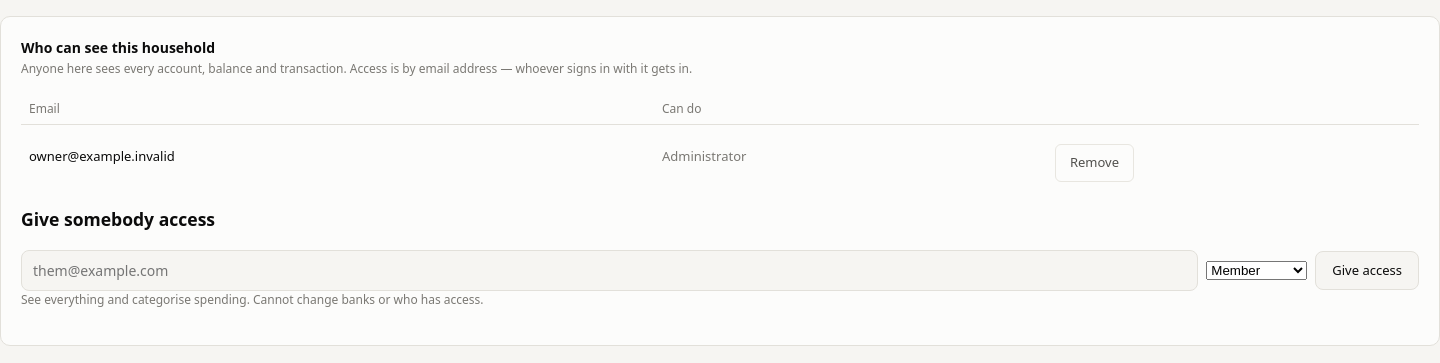
Test: giving somebody access › says what the chosen role can do, before it is used
Expected: the text "owner@example.invalid" is shown, [21,124,654,188]
Select "Administrator" in the dropdown named "What they can do" at (1257, 270), box [1206,261,1307,280]
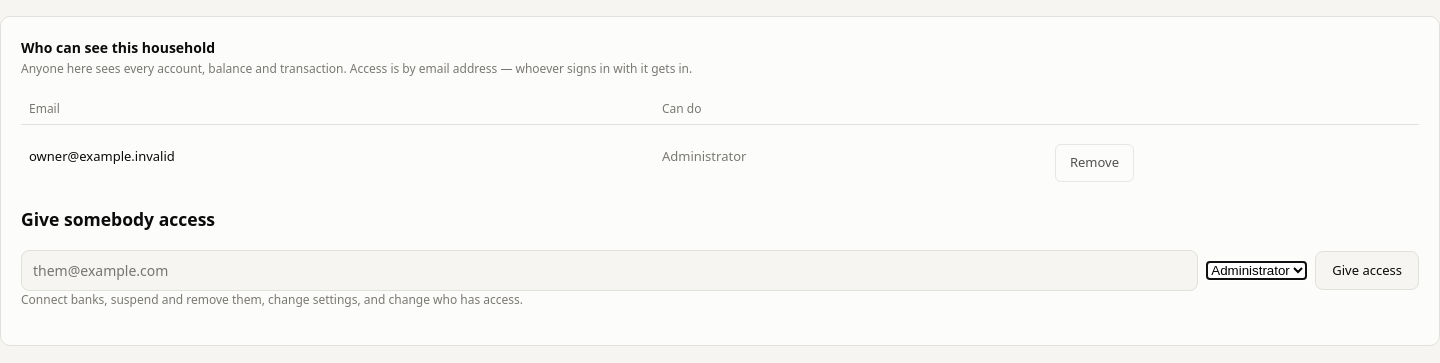
Result: the text "change who has access" is shown at [21,291,523,308]
